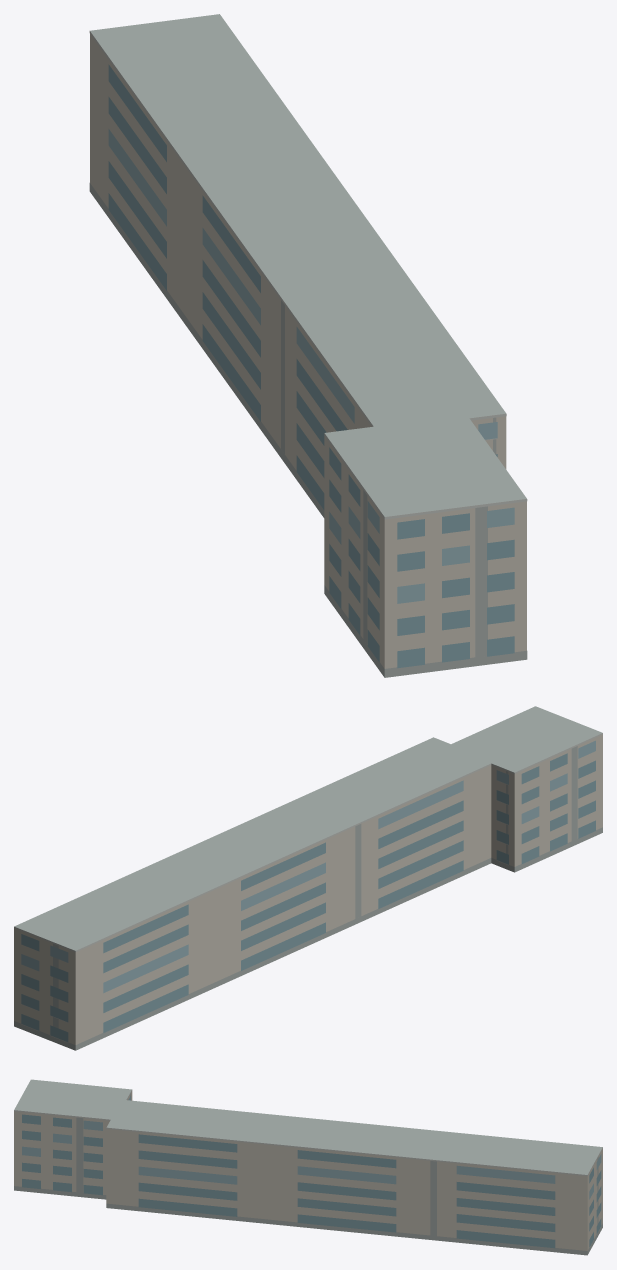
Rendered from residential-5effac99-ff19-46e0-a114-baed6868f323.glb.
The picture shows the model from 3 angles, top to bottom: view 1: azimuth 30°, elevation 25°; view 2: azimuth 150°, elevation 25°; view 3: azimuth 270°, elevation 25°; orthographic projection. The views are drawn at different scales.
Visible parts, largest first — view 1: residential-5effac99-ff19-46e0-a114-baed6868f323.tmp; view 2: residential-5effac99-ff19-46e0-a114-baed6868f323.tmp; view 3: residential-5effac99-ff19-46e0-a114-baed6868f323.tmp.
Boxes of the visible parts, x1=… form: residential-5effac99-ff19-46e0-a114-baed6868f323.tmp: x1=89, y1=14, x2=527, y2=677; residential-5effac99-ff19-46e0-a114-baed6868f323.tmp: x1=14, y1=706, x2=602, y2=1050; residential-5effac99-ff19-46e0-a114-baed6868f323.tmp: x1=14, y1=1079, x2=602, y2=1255.
Bounding box in the file's own units: 38.88 × 15.25 × 101.
